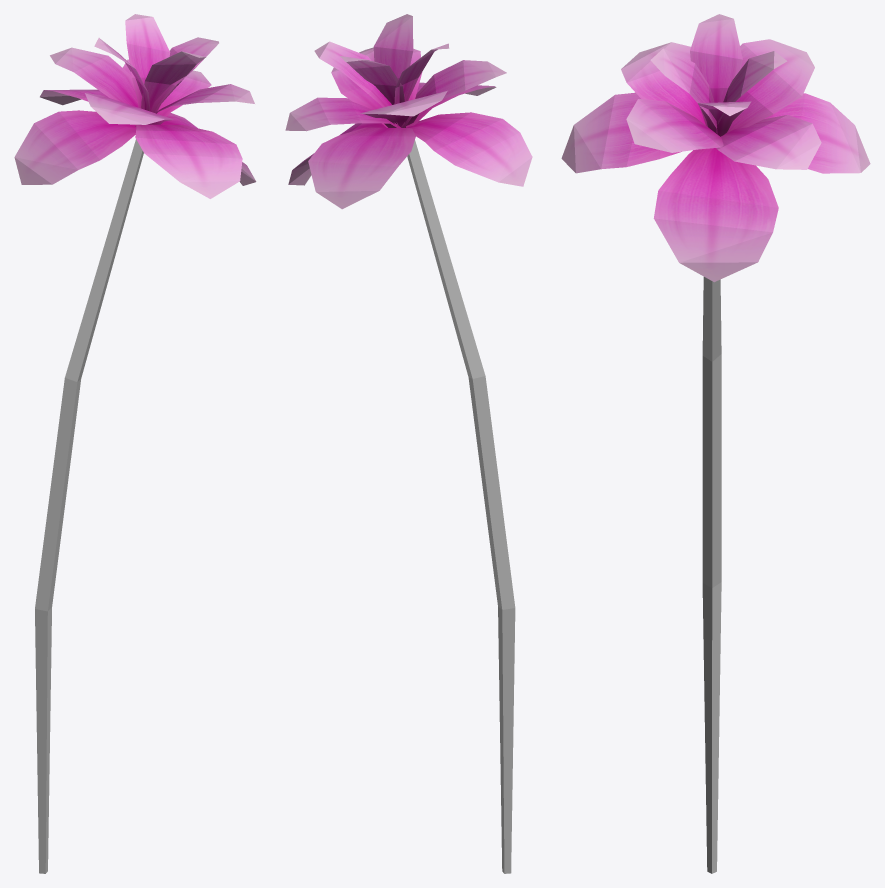
Rendered from yewai_01_hua_01.fbx.
3 renders of one model, left to right at view 1: azimuth 30°, elevation 25°; view 2: azimuth 150°, elevation 25°; view 3: azimuth 270°, elevation 25°, orthographic. The views are drawn at different scales.
Parts seen in each view (by area): view 1: polySurface12, pCylinder1; view 2: polySurface12, pCylinder1; view 3: polySurface12, pCylinder1.
Part boxes in pixels (bbox=[...]): polySurface12: bbox=[14, 14, 256, 198]; pCylinder1: bbox=[35, 139, 143, 873]; polySurface12: bbox=[285, 14, 532, 209]; pCylinder1: bbox=[407, 140, 515, 873]; polySurface12: bbox=[561, 14, 870, 282]; pCylinder1: bbox=[702, 277, 721, 873].
Bounding box in the file's own units: 25.77 × 90.99 × 28.72.
